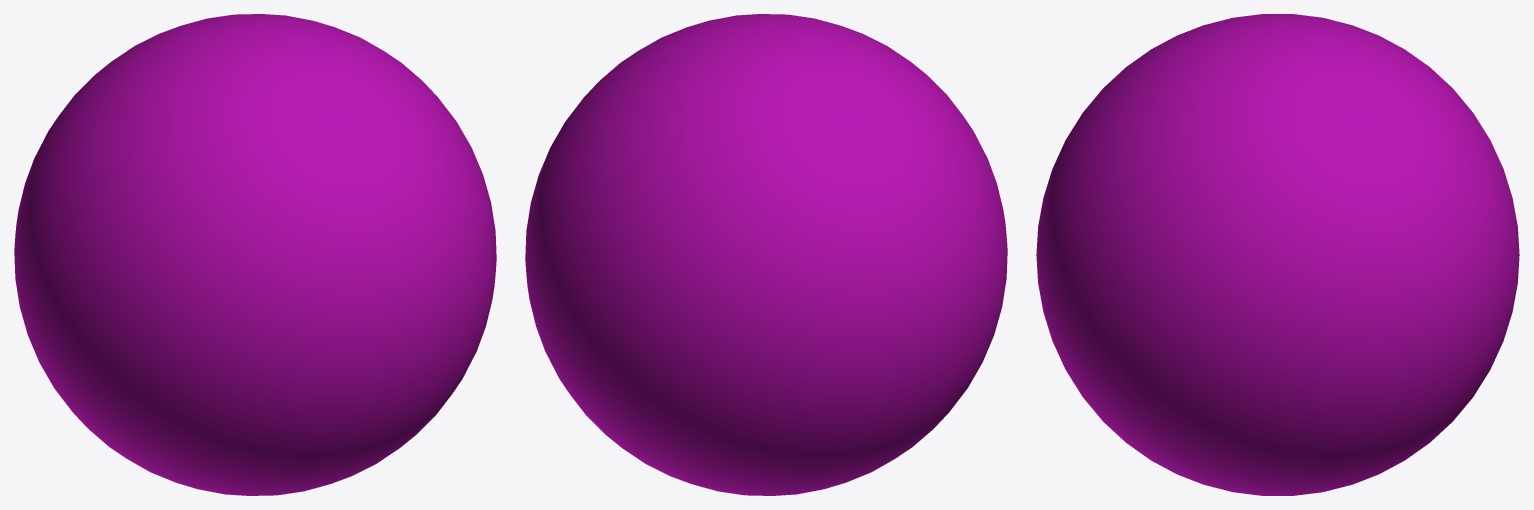
Rendered from ball.obj.
The picture shows the model from 3 angles, left to right: view 1: azimuth 30°, elevation 25°; view 2: azimuth 150°, elevation 25°; view 3: azimuth 270°, elevation 25°; orthographic projection.
Visible parts, largest first — view 1: 13065_vn_obj_1; view 2: 13065_vn_obj_1; view 3: 13065_vn_obj_1.
Part boxes in pixels (left/top/right/bottom): 13065_vn_obj_1: left=14, top=14, right=496, bottom=495; 13065_vn_obj_1: left=525, top=14, right=1007, bottom=495; 13065_vn_obj_1: left=1036, top=14, right=1519, bottom=495.
Size of the model in its own units: 2 by 2 by 2.
